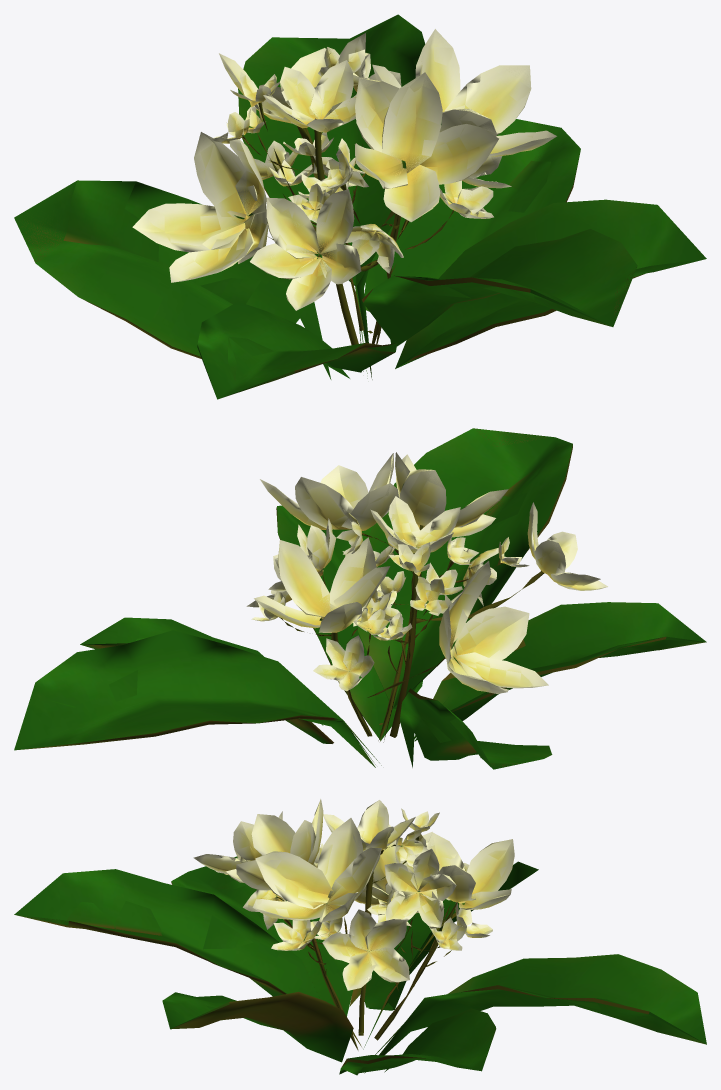
The picture shows the model from 3 angles, top to bottom: view 1: azimuth 30°, elevation 25°; view 2: azimuth 150°, elevation 25°; view 3: azimuth 270°, elevation 25°; orthographic projection. The views are drawn at different scales.
Visible parts, largest first — view 1: 5755006f; view 2: 5755006f; view 3: 5755006f.
Part boxes in pixels (x1,y1,x2,y2): 5755006f: (14,14,706,399); 5755006f: (14,428,706,769); 5755006f: (14,799,706,1075).
Bounding box in the file's own units: 0.0921 × 0.055 × 0.1326.
1 material, 1 textured.
